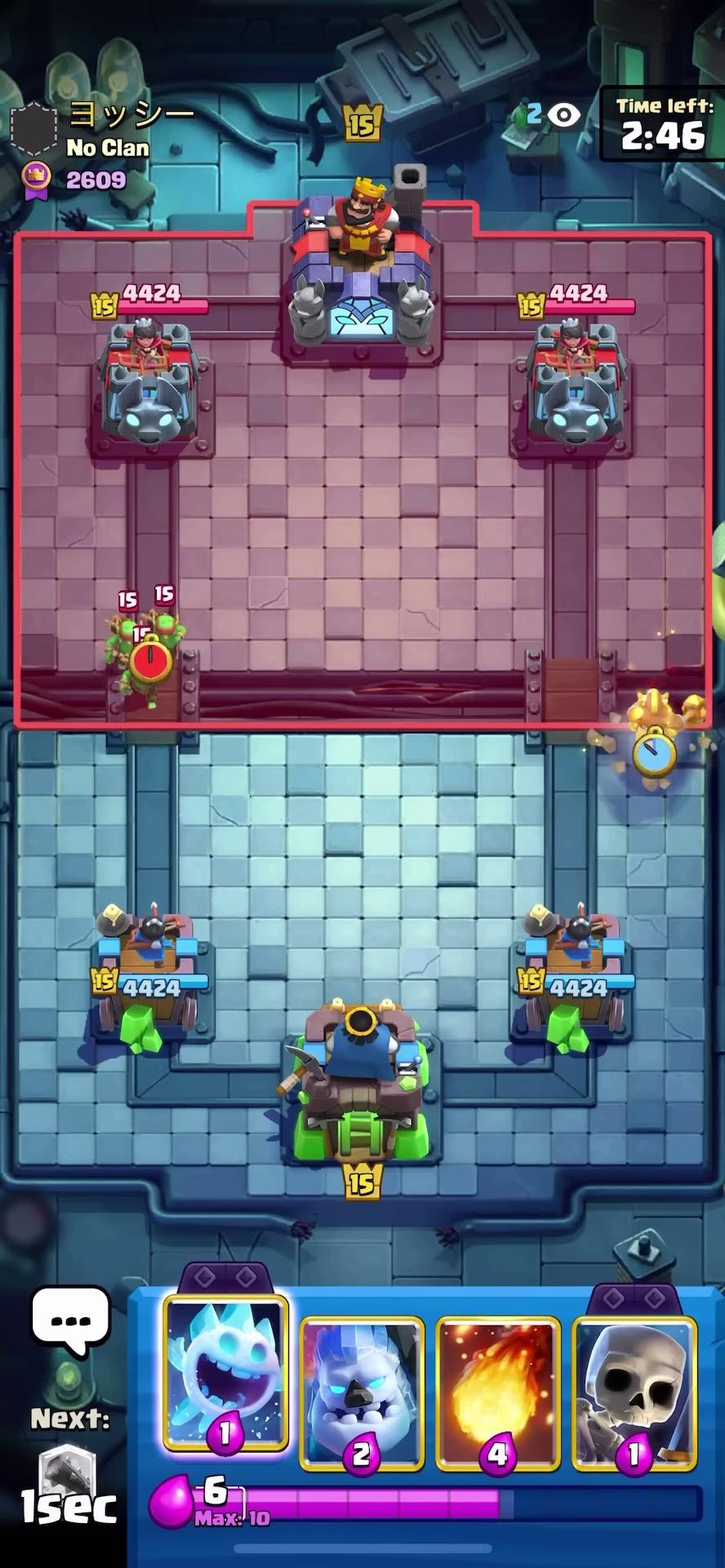hog_rider: (610, 674, 700, 760)
